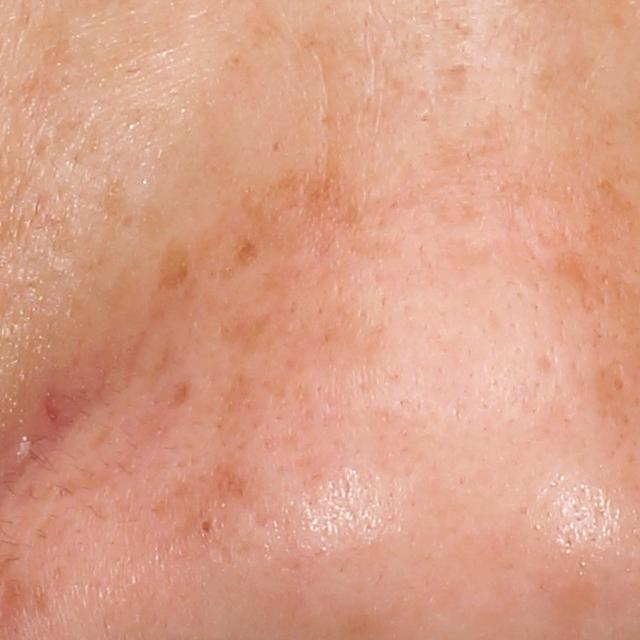atrophic_scar: (536, 348, 558, 376)
comedo: (196, 517, 216, 540)
melasma: (233, 160, 382, 255), (146, 459, 248, 516), (205, 304, 275, 356), (152, 234, 202, 301), (221, 238, 266, 274), (164, 379, 196, 414)
